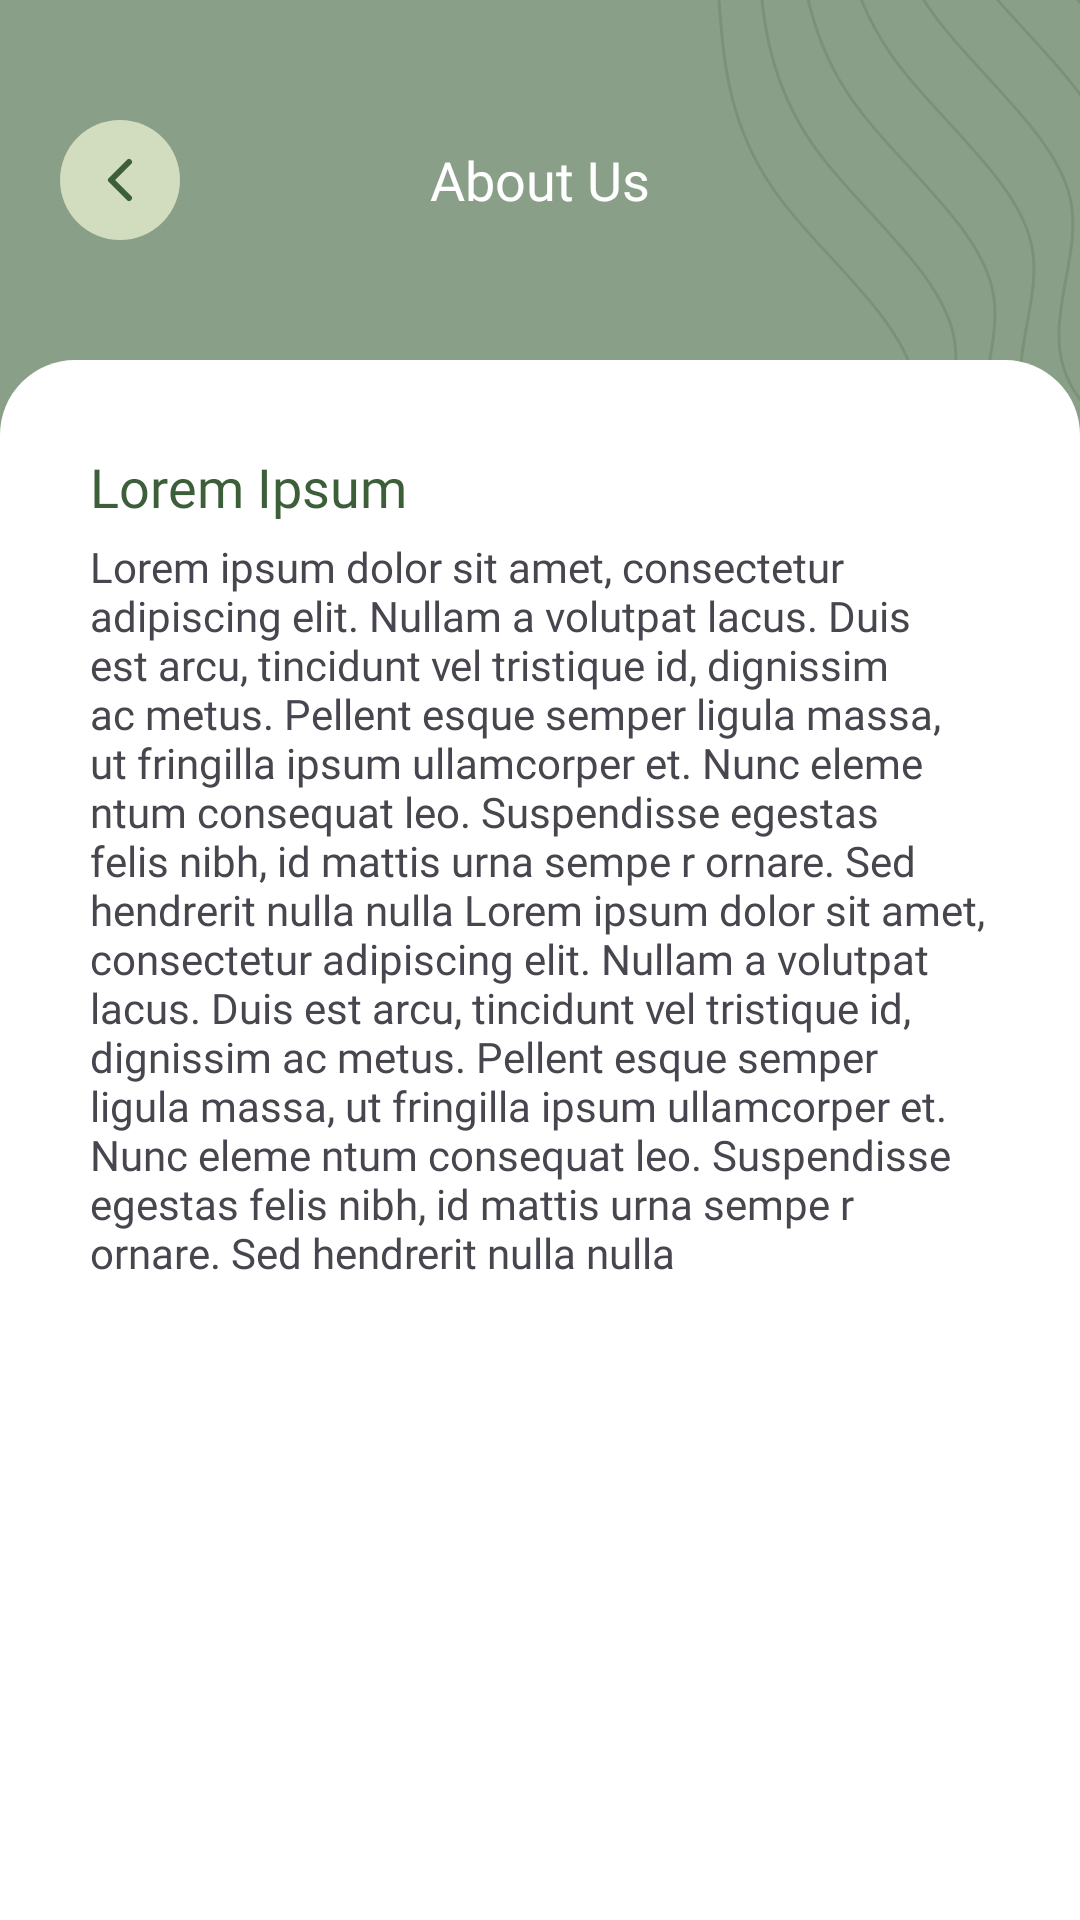

Screen size 1080 x 1920. Icon name, then its center in pixels as [x,y]:
back arrow: [120,180]
